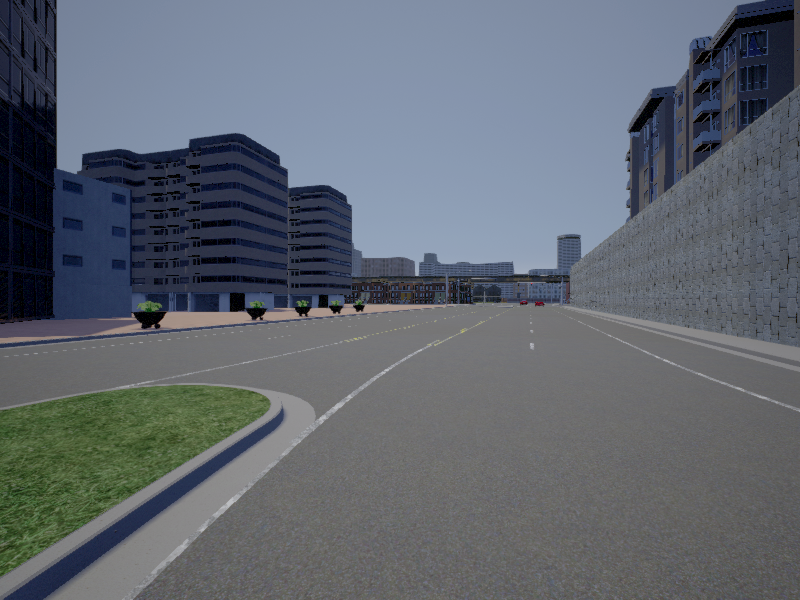Attacker: (519, 299, 528, 304)
Benign: (534, 299, 546, 307)
